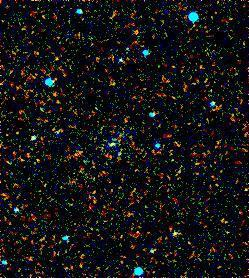star: (97, 128, 127, 158)
